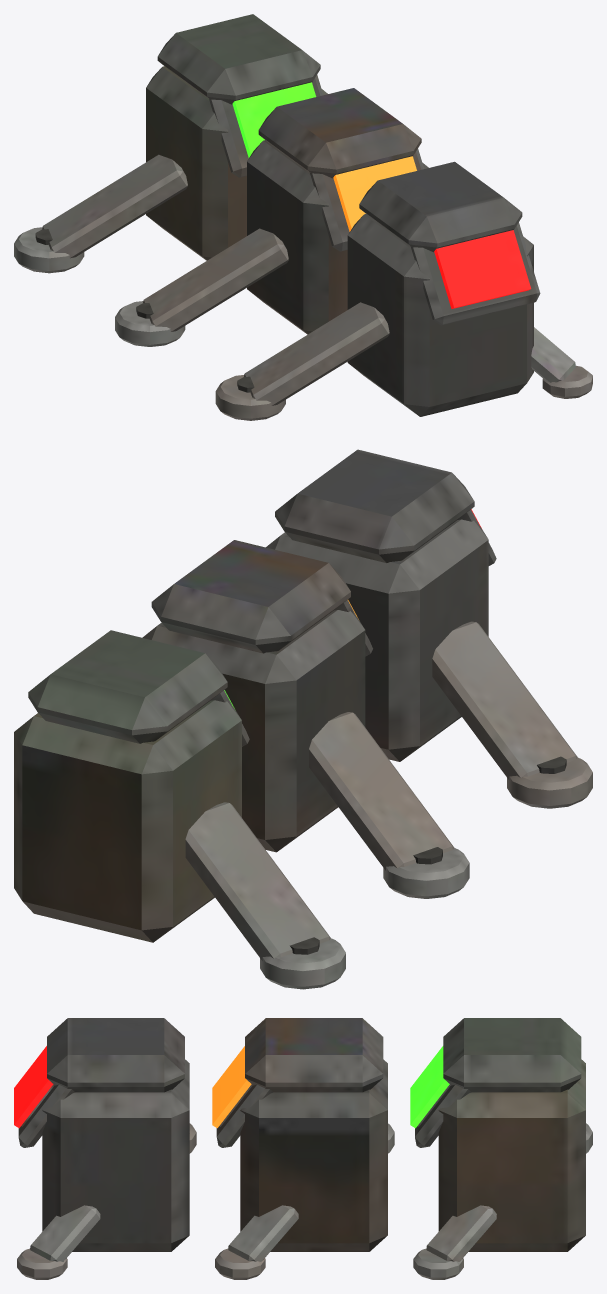
The model's file is rail-signal.glb.
The picture shows the model from 3 angles, top to bottom: view 1: azimuth 30°, elevation 25°; view 2: azimuth 150°, elevation 25°; view 3: azimuth 270°, elevation 25°; orthographic projection. The views are drawn at different scales.
Parts seen in each view (by area): view 1: body, anim_lit_red, anim_lit_green, anim_lit_yellow; view 2: body; view 3: body, anim_lit_green, anim_lit_yellow, anim_lit_red.
Part boxes in pixels (x1=…): body: x1=14, y1=14, x2=592, y2=420; anim_lit_red: x1=434, y1=230, x2=531, y2=308; anim_lit_green: x1=232, y1=82, x2=316, y2=157; anim_lit_yellow: x1=333, y1=156, x2=416, y2=231; body: x1=14, y1=449, x2=592, y2=989; body: x1=17, y1=1018, x2=592, y2=1279; anim_lit_green: x1=410, y1=1046, x2=449, y2=1128; anim_lit_yellow: x1=212, y1=1046, x2=251, y2=1128; anim_lit_red: x1=14, y1=1046, x2=53, y2=1128.
Bounding box in the file's own units: 0.7573 × 0.46 × 1.26.
Materials: 4 (4 with a texture image).
